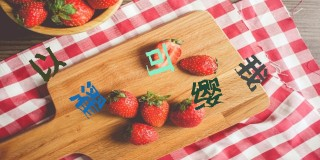以: (28, 46, 67, 82)
可: (144, 45, 174, 77)
我: (236, 53, 268, 92)
濯: (70, 81, 106, 118)
缨: (190, 75, 224, 110)
